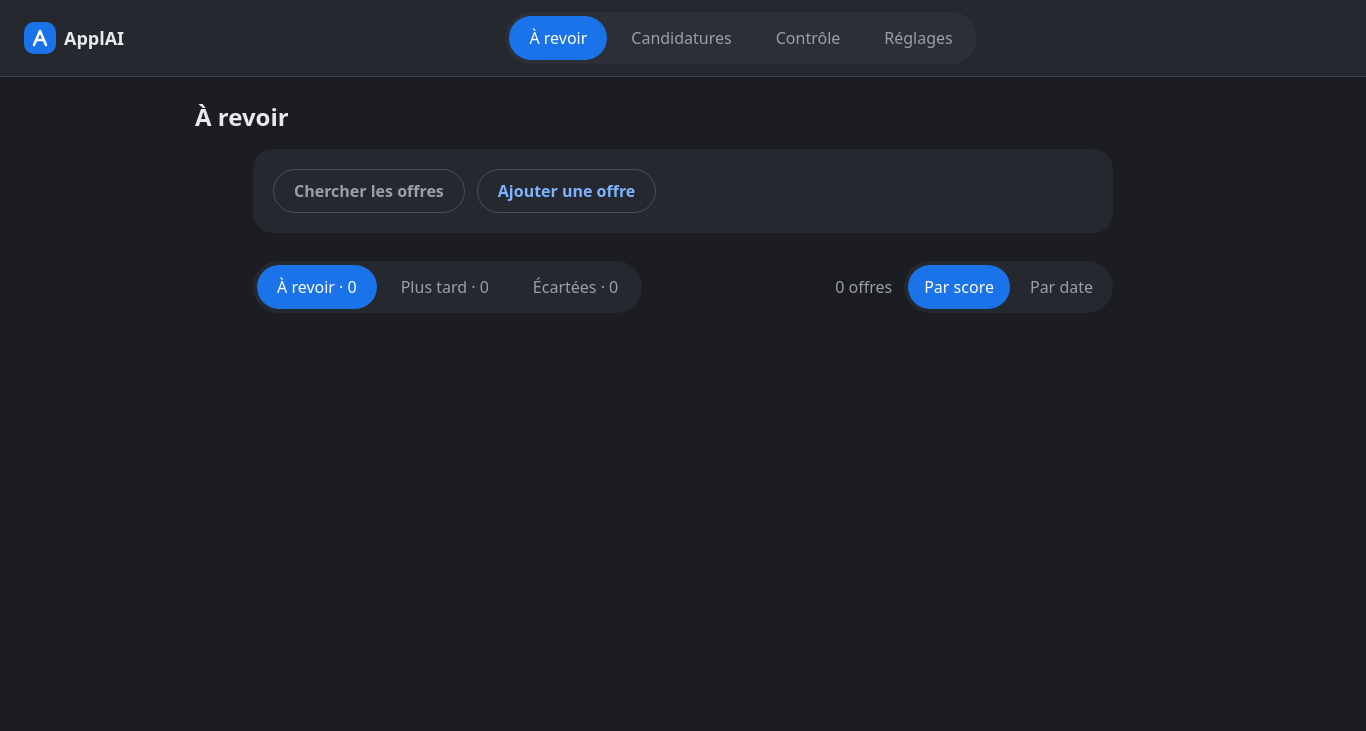
Test: the Settings page › opens from Réglages, the last item of the navigation
The image size is (1366, 731).
What coordinates should you click on to do the following:
click the button "Réglages"
I would click on:
 (919, 38)
Its box is [864,16,973,60].
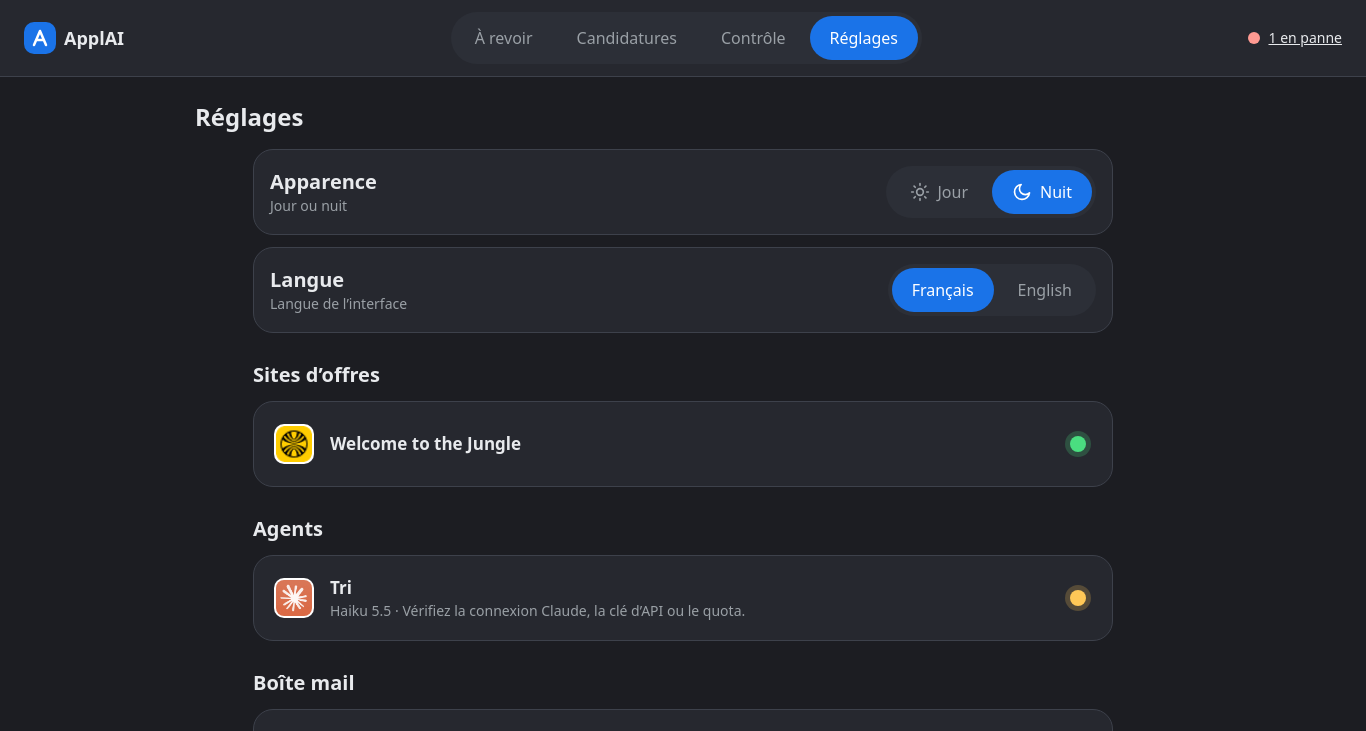
Result: the heading "Réglages" is shown at [195,100,303,133]
